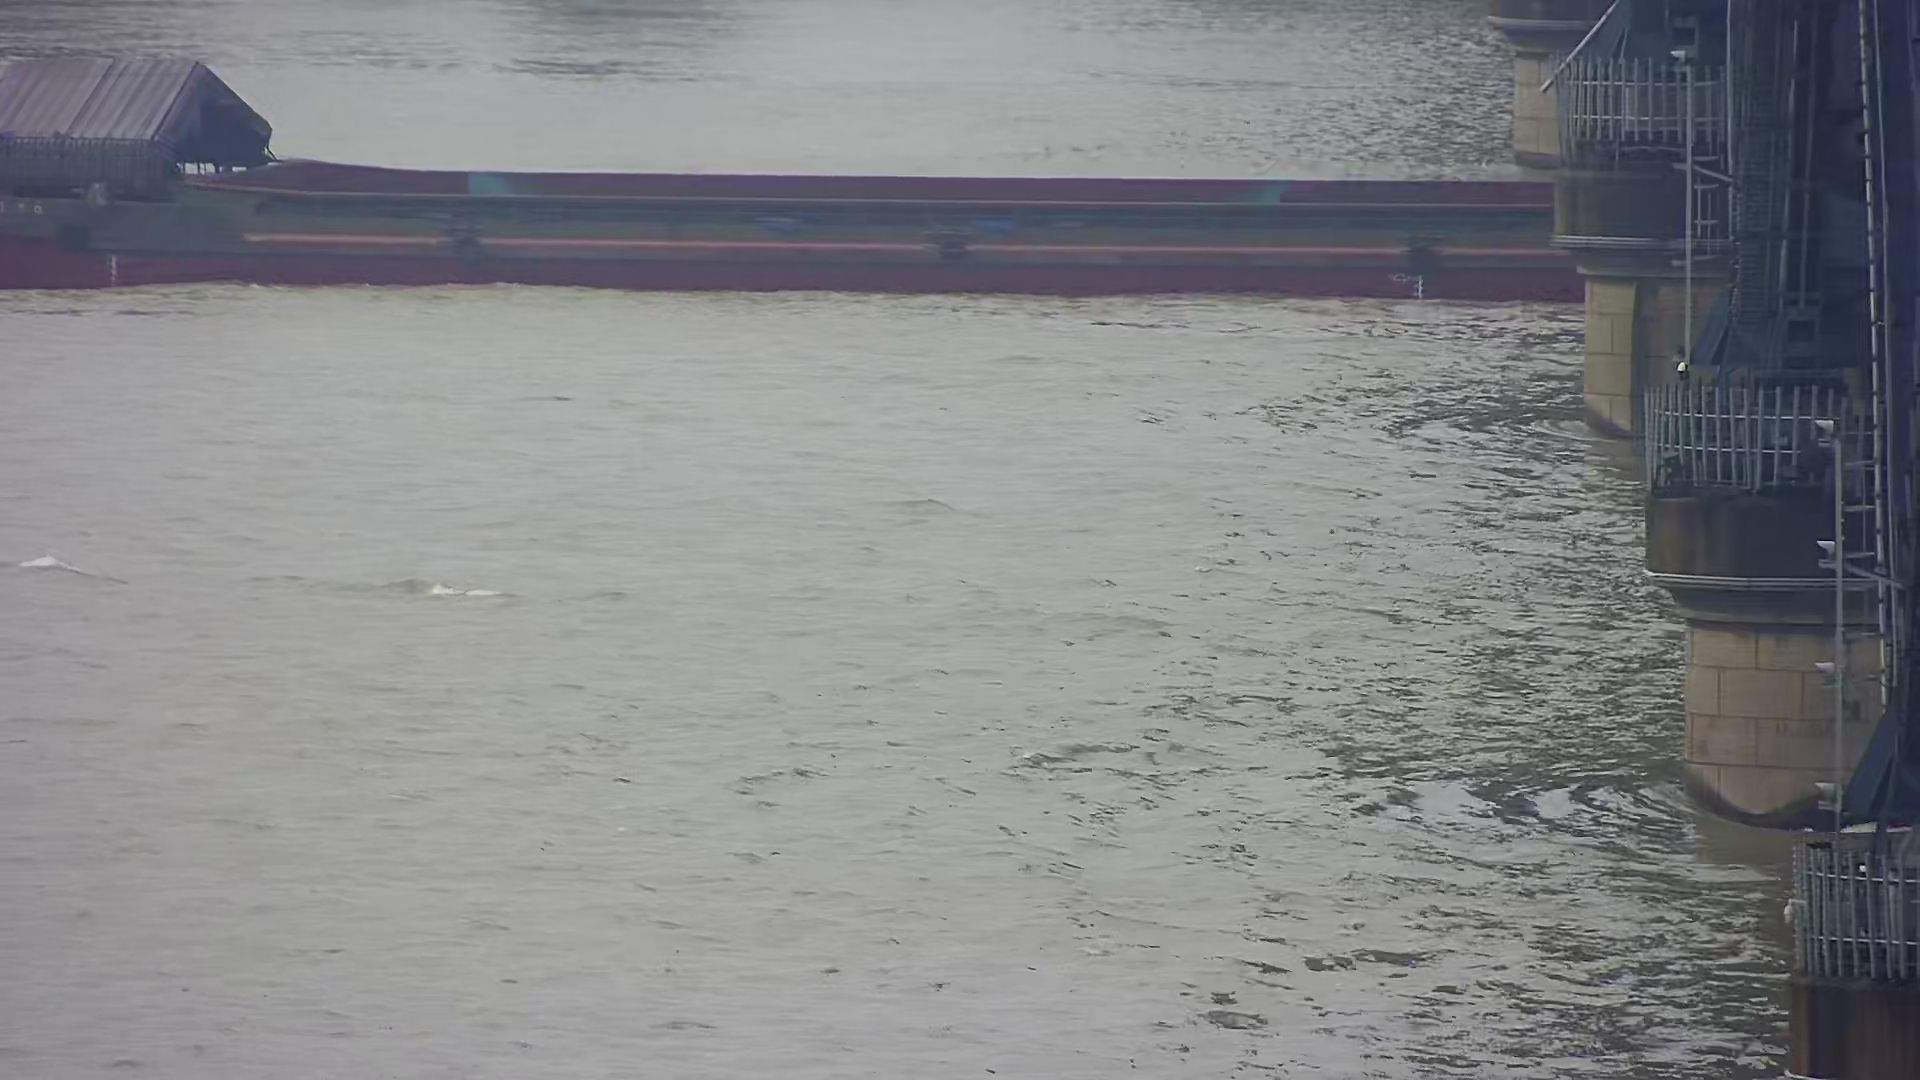bridge: (1486, 1, 1920, 1077)
ship: (5, 55, 1555, 295)
